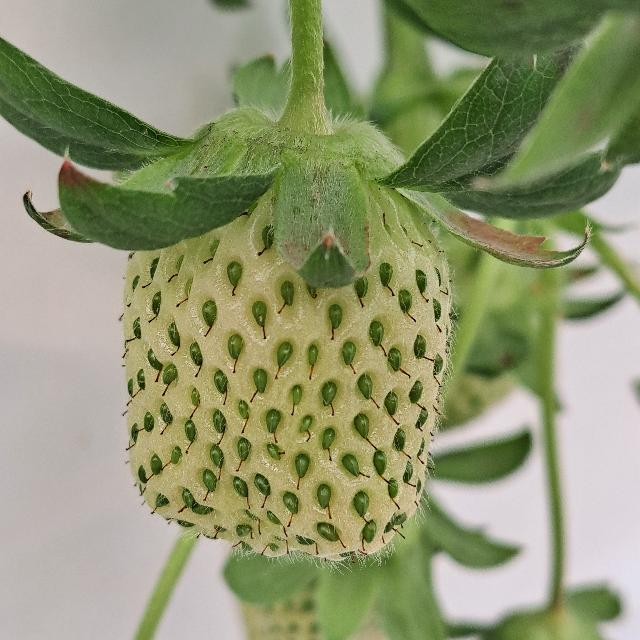Health_25: (123, 182, 450, 560)
